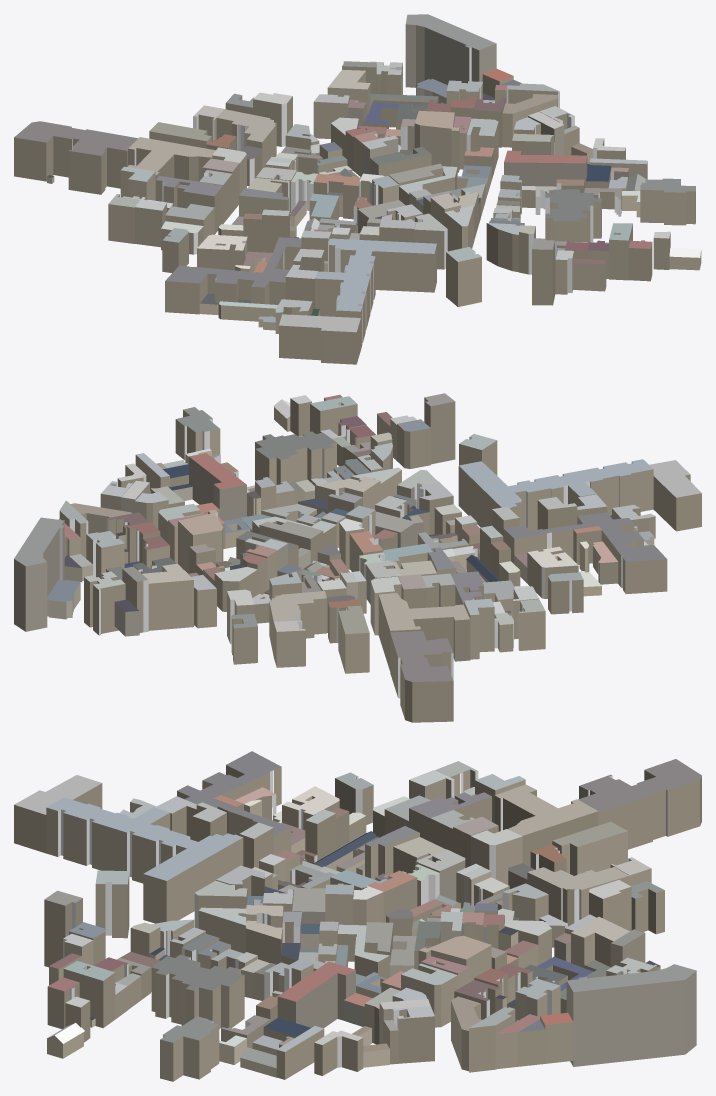
3 views of the same model, one above another, from view 1: azimuth 30°, elevation 25°; view 2: azimuth 150°, elevation 25°; view 3: azimuth 270°, elevation 25° (orthographic). The views are drawn at different scales.
Visible parts, largest first — view 1: tuile; view 2: tuile; view 3: tuile.
Boxes of the visible parts, bbox=[...] form: tuile: bbox=[14, 14, 701, 364]; tuile: bbox=[14, 393, 701, 722]; tuile: bbox=[14, 751, 701, 1081].
Bounding box in the file's own units: 288 × 36.06 × 289.
